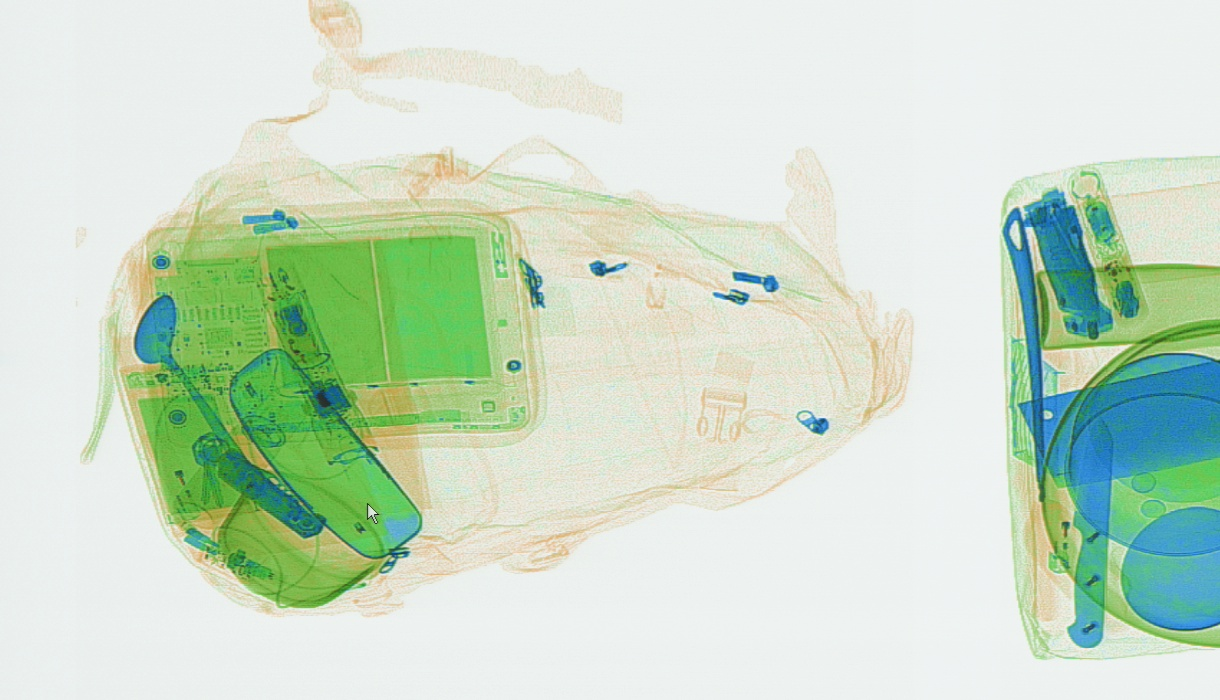knife: (1009, 350, 1218, 490), (1021, 191, 1112, 341), (194, 438, 320, 539), (1065, 417, 1115, 650)
lighter: (134, 429, 199, 526), (1047, 449, 1082, 574)
pressure: (171, 409, 284, 530)
